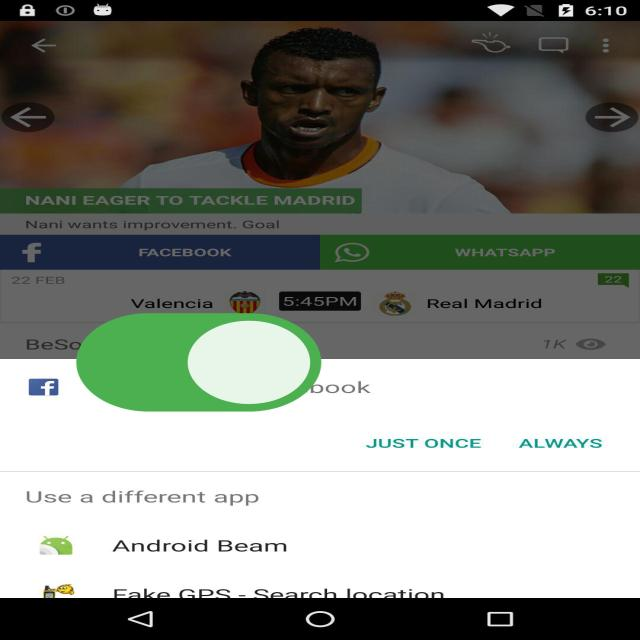social proof: (65, 275, 333, 457)
